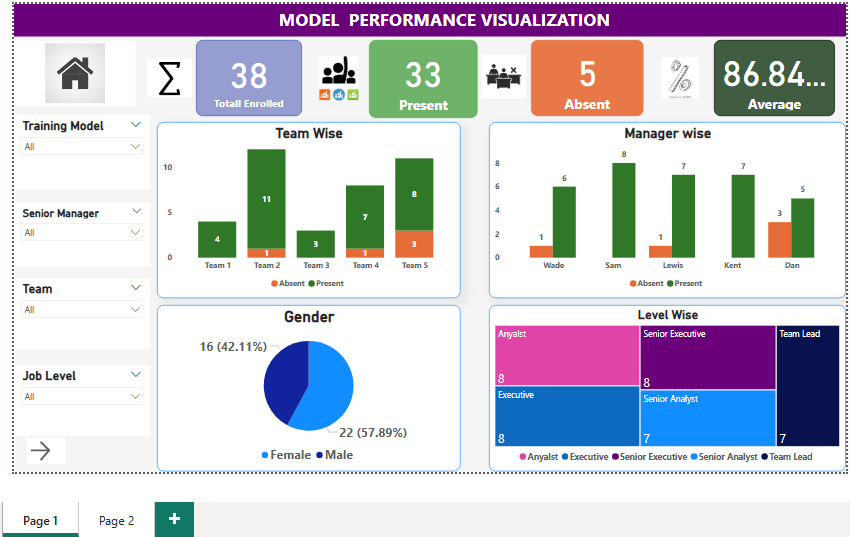

The page's visual inventory and layout, read from the dashboard file:
{"tool":"powerbi","page":{"name":"Page 1","canvas":[1280,720],"ordinal":0},"visuals":[{"type":"card","fields":{"Values":["Data.Name"]},"box":[279.4,54.7,162.7,116.6],"z":0},{"type":"card","fields":{"Values":["Data.Name"]},"box":[545.8,54.7,167,119.5],"z":1000},{"type":"card","fields":{"Values":["Data.Name"]},"box":[794.9,54.7,172.8,116.6],"z":2000},{"type":"card","fields":{"Values":["Data.Attendance Status"]},"box":[1077.1,54.7,185.8,116.6],"z":3000},{"type":"columnChart","title":"Team Wise","fields":{"Category":["Data.Team"],"Y":["Data.Name","select"],"Series":["Data.Attendance"]},"box":[220.3,181.4,466.6,270.7],"z":4000},{"type":"clusteredColumnChart","title":"Manager wise","fields":{"Category":["Data.Senior Manager"],"Y":["select","Data.Team"],"Series":["Data.Attendance"]},"box":[731.5,181.4,548.6,270.7],"z":5000},{"type":"pieChart","title":" Gender","fields":{"Category":["Data.Gender"],"Y":["Data.Gender"]},"box":[220.3,463.7,466.6,256.3],"z":6000},{"type":"treemap","title":"Level Wise","fields":{"Group":["Data.Job Level"],"Values":["Data.Name"]},"box":[731.5,463.7,548.6,256.3],"z":7000},{"type":"slicer","fields":{"Values":["Data.Training Model"]},"box":[0,171.4,208.8,113.8],"z":8000},{"type":"slicer","fields":{"Values":["Data.Senior Manager"]},"box":[0,306.7,208.8,97.9],"z":9000},{"type":"actionButton","box":[0,0,100,40],"z":10000},{"type":"slicer","fields":{"Values":["Data.Team"]},"box":[0,421.9,208.8,109.4],"z":11000},{"type":"slicer","fields":{"Values":["Data.Job Level"]},"box":[0,555.8,208.8,109.4],"z":12000},{"type":"image","box":[0,54.7,187.2,102.2],"z":13000},{"type":"actionButton","box":[20.2,668.2,59,40.3],"z":14000},{"type":"image","box":[200.2,74.9,79.2,77.8],"z":15000},{"type":"image","box":[453.6,74.9,92.2,77.8],"z":16000},{"type":"image","box":[712.8,72,82.1,77.8],"z":17000},{"type":"image","box":[987.8,76.3,73.4,73.4],"z":18000},{"type":"textbox","box":[0,0,1280.2,50],"z":19000}]}

Visuals, with their boxes on the page's 1280x720 design canvas (x1, y1, x2, y2). These are canvas units, not pixel positions in the 850x537 screenshot, which may show the page scaled, cropped or inside an application window:
card - Data.Name: region(279, 55, 442, 171)
card - Data.Name: region(546, 55, 713, 174)
card - Data.Name: region(795, 55, 968, 171)
card - Data.Attendance Status: region(1077, 55, 1263, 171)
"Team Wise" columnChart: region(220, 181, 687, 452)
"Manager wise" clusteredColumnChart: region(732, 181, 1280, 452)
" Gender" pieChart: region(220, 464, 687, 720)
"Level Wise" treemap: region(732, 464, 1280, 720)
slicer - Data.Training Model: region(0, 171, 209, 285)
slicer - Data.Senior Manager: region(0, 307, 209, 405)
actionButton: region(0, 0, 100, 40)
slicer - Data.Team: region(0, 422, 209, 531)
slicer - Data.Job Level: region(0, 556, 209, 665)
image: region(0, 55, 187, 157)
actionButton: region(20, 668, 79, 708)
image: region(200, 75, 279, 153)
image: region(454, 75, 546, 153)
image: region(713, 72, 795, 150)
image: region(988, 76, 1061, 150)
textbox: region(0, 0, 1280, 50)
